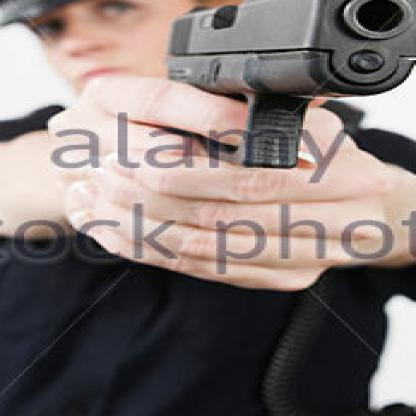gun: (156, 0, 414, 173)
